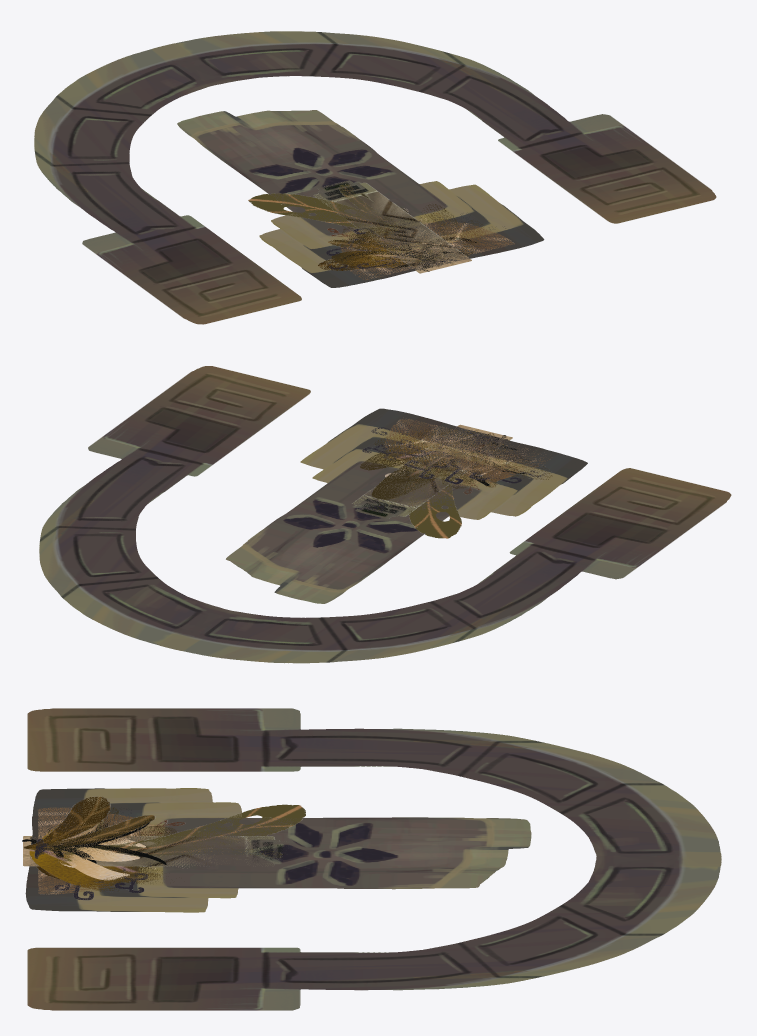
The model's file is Neutro.fbx.
The picture shows the model from 3 angles, top to bottom: view 1: azimuth 30°, elevation 25°; view 2: azimuth 150°, elevation 25°; view 3: azimuth 270°, elevation 25°; orthographic projection. The views are drawn at different scales.
Visible parts, largest first — view 1: Plane.001, Plane, Plane.002, Plane.003, Plane.004, Plane.007, Plane.006, Plane.005; view 2: Plane.001, Plane, Plane.004, Plane.002, Plane.003, Plane.007, Plane.005; view 3: Plane.001, Plane, Plane.003, Plane.002, Plane.007, Plane.004, Plane.009, Plane.006, Plane.005.
Part boxes in pixels (x1=…): Plane.001: x1=34, y1=31, x2=716, y2=324; Plane: x1=177, y1=110, x2=544, y2=287; Plane.002: x1=313, y1=180, x2=471, y2=273; Plane.003: x1=248, y1=183, x2=479, y2=270; Plane.004: x1=339, y1=219, x2=514, y2=279; Plane.007: x1=331, y1=201, x2=483, y2=267; Plane.006: x1=335, y1=224, x2=476, y2=271; Plane.005: x1=326, y1=214, x2=505, y2=269; Plane.001: x1=39, y1=366, x2=731, y2=663; Plane: x1=226, y1=408, x2=587, y2=603; Plane.004: x1=384, y1=417, x2=549, y2=486; Plane.002: x1=352, y1=424, x2=512, y2=518; Plane.003: x1=367, y1=429, x2=552, y2=538; Plane.007: x1=359, y1=430, x2=528, y2=499; Plane.005: x1=362, y1=425, x2=545, y2=484; Plane.001: x1=27, y1=708, x2=721, y2=1010; Plane: x1=25, y1=788, x2=531, y2=912; Plane.003: x1=23, y1=796, x2=305, y2=882; Plane.002: x1=23, y1=836, x2=288, y2=866; Plane.007: x1=29, y1=807, x2=176, y2=891; Plane.004: x1=38, y1=807, x2=169, y2=894; Plane.009: x1=55, y1=822, x2=145, y2=880; Plane.006: x1=22, y1=818, x2=166, y2=864; Plane.005: x1=34, y1=802, x2=151, y2=900.
Bounding box in the file's own units: 115 × 1.8e-05 × 110.
